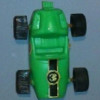verde: (14, 2, 89, 98)
